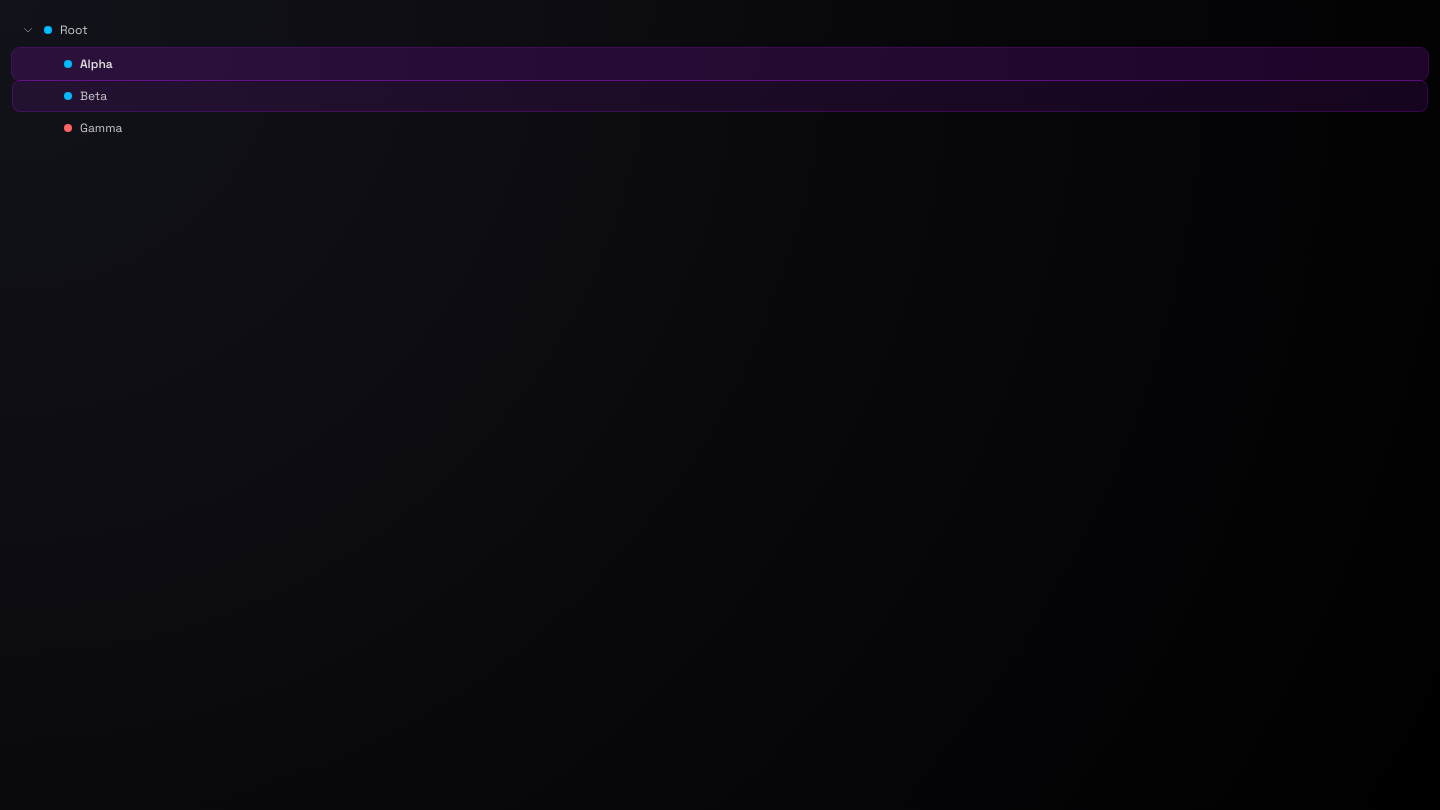
Test: GoalTree multi-selection › right-click on a goal outside the selection keeps the single-goal menu
Right-click the button with test id "goal-node-c" at (93, 128), box [64,120,122,136]
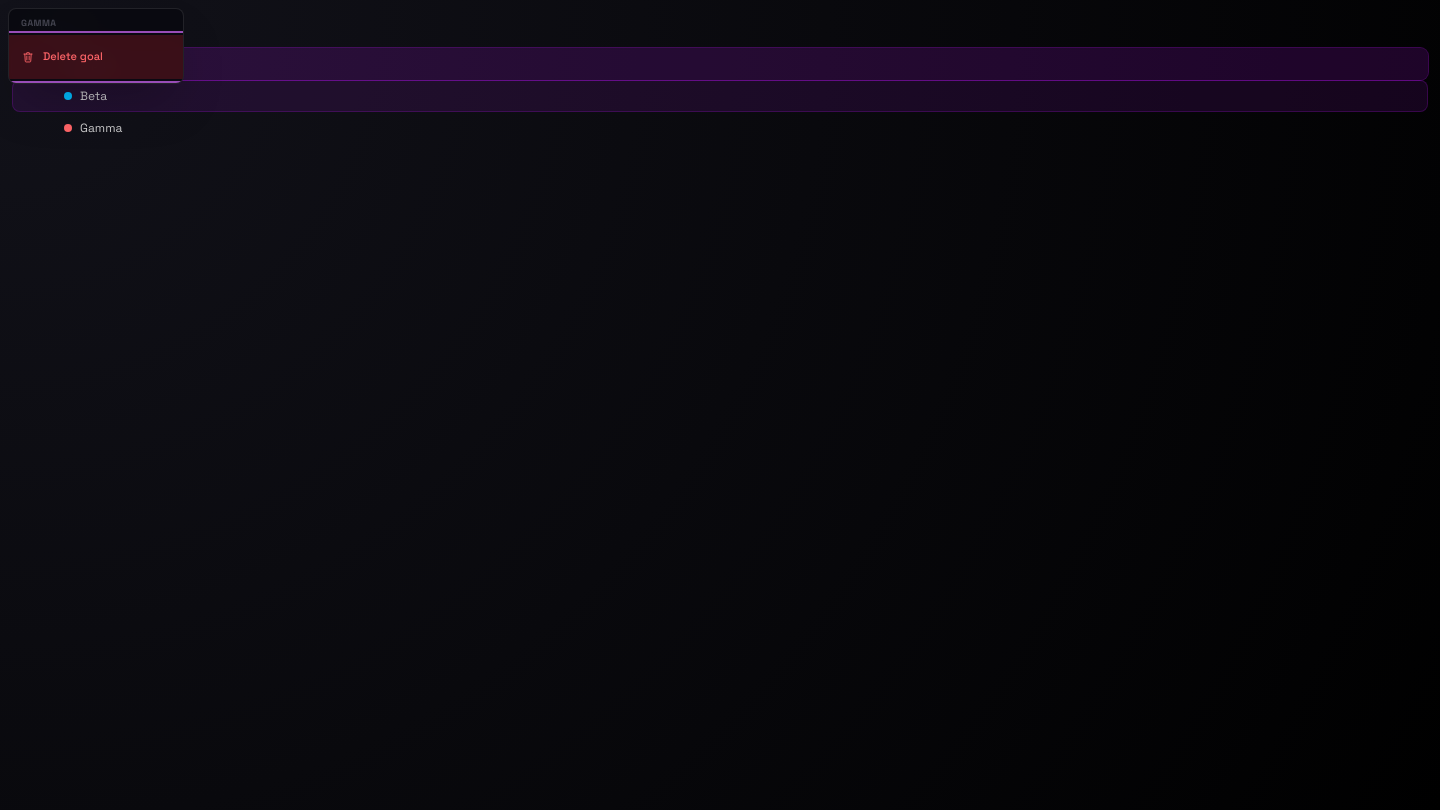
Check: the menu item "Delete goal" is shown, box [9,34,183,78]
